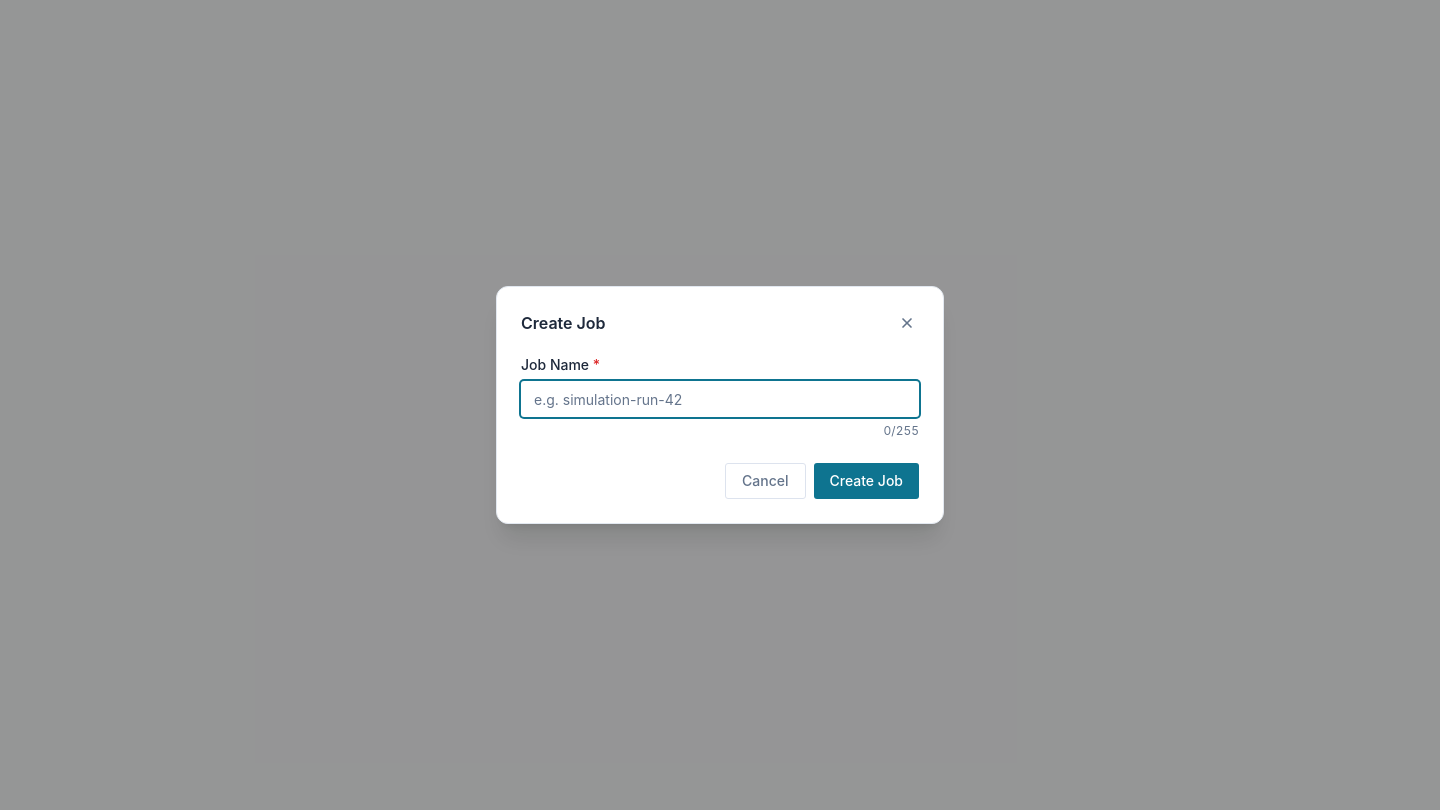
Test case: CreateJobModal › validation › shows error when name contains spaces
Type "has spaces" into the field labelled "Job Name *" at {"x": 720, "y": 399}, box x1=521 y1=381 x2=919 y2=417
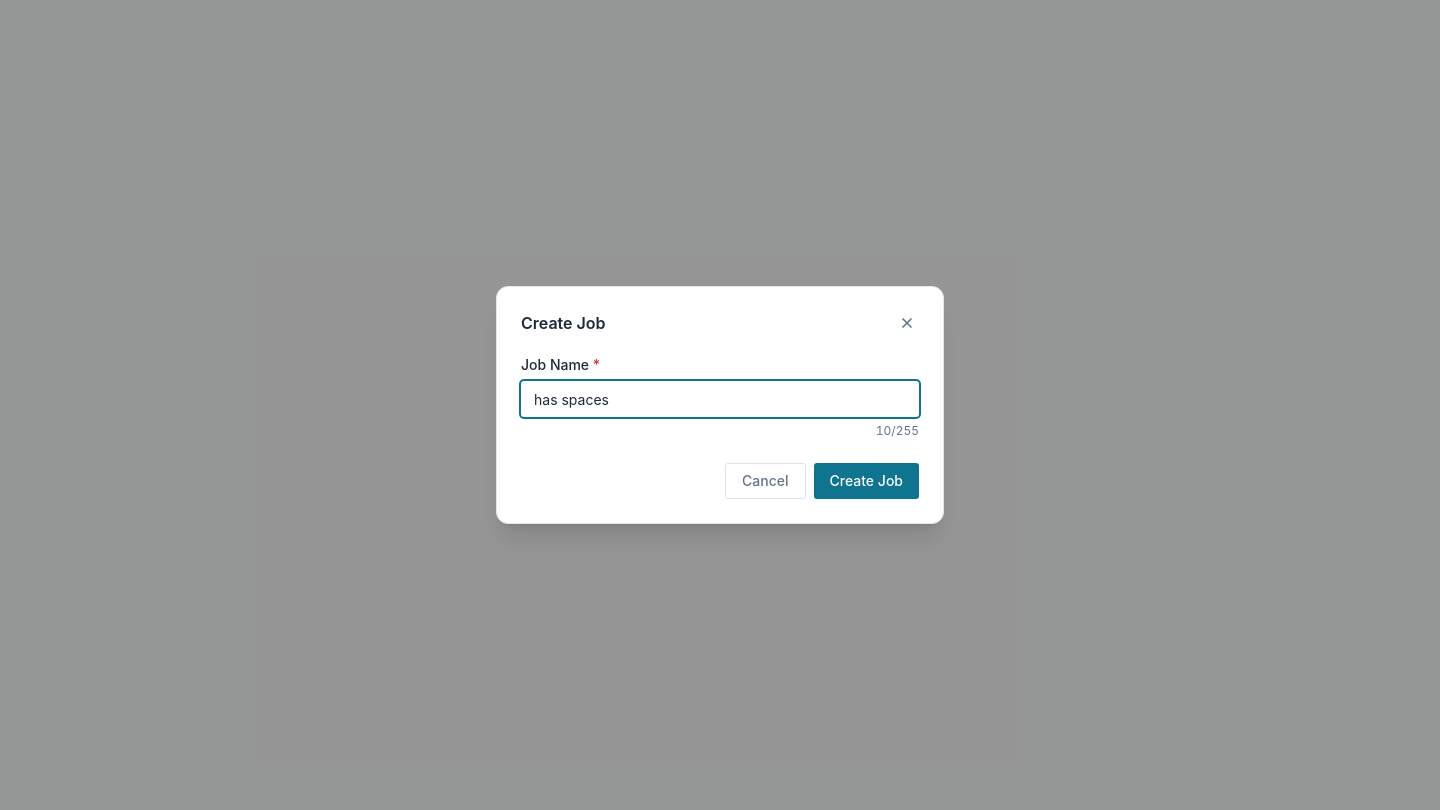
Click the button "Create Job" at {"x": 866, "y": 481}, box x1=814 y1=463 x2=919 y2=499
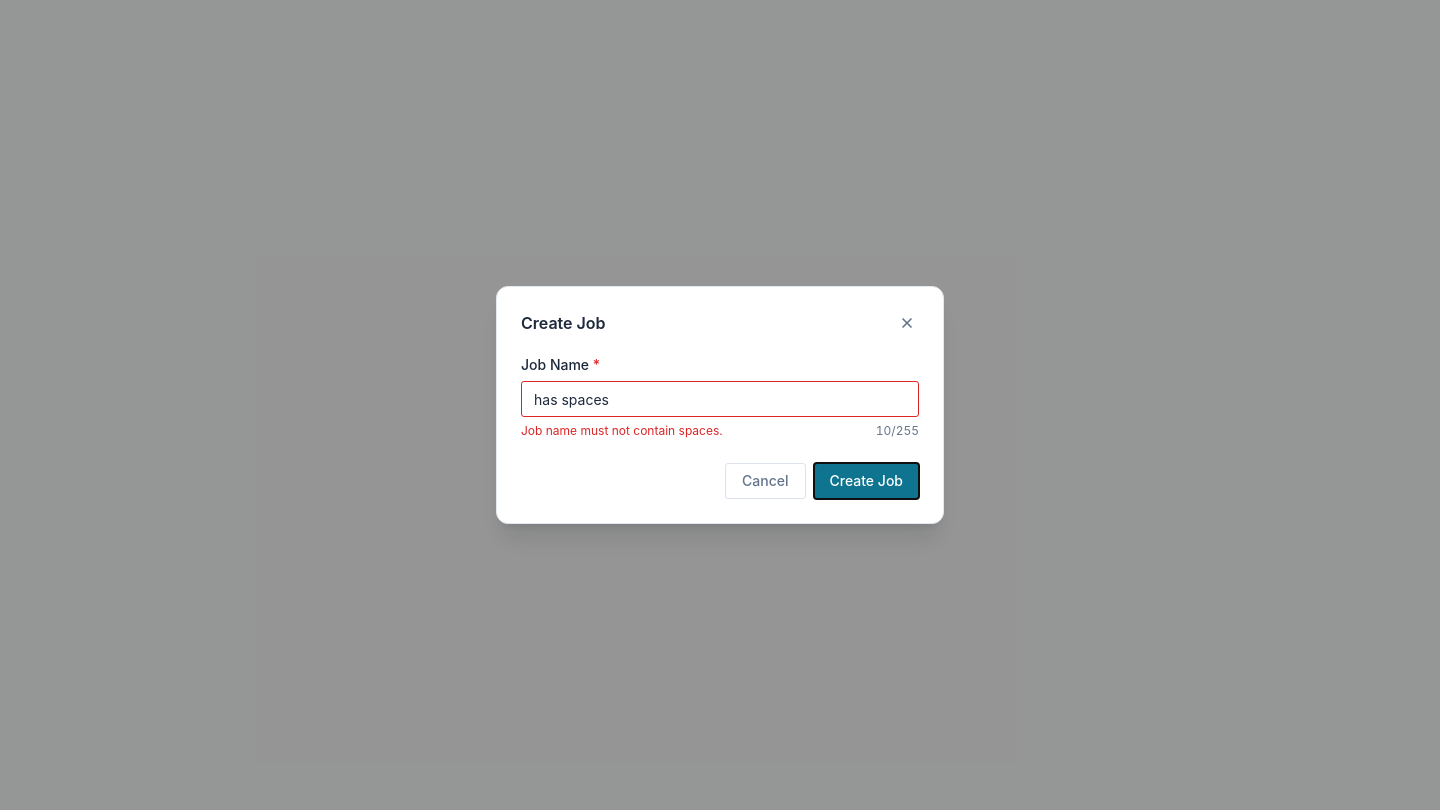
expect the text "Job name must not contain spaces." is shown: met, box x1=521 y1=423 x2=723 y2=439
